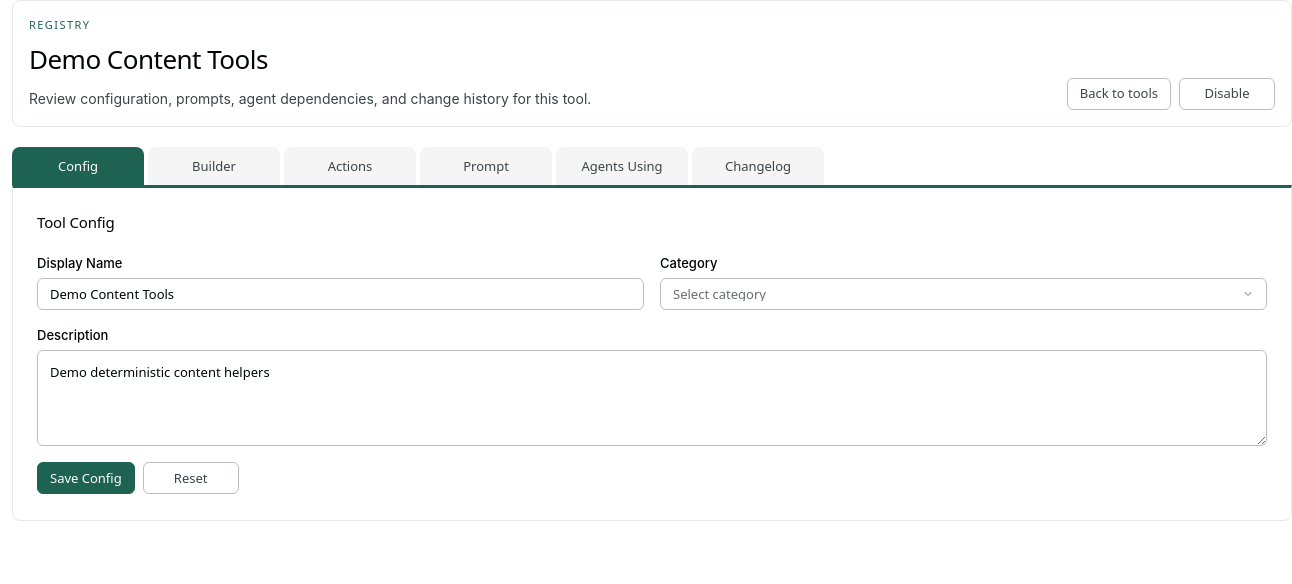
Test: RegistryToolsDetailPage › renders action contracts from tool interface functions
The image size is (1292, 584).
Check: the heading "Demo Content Tools" is shown, box [29,41,268,77]
Click the tab "Actions" at (350, 166), box [284,147,416,185]
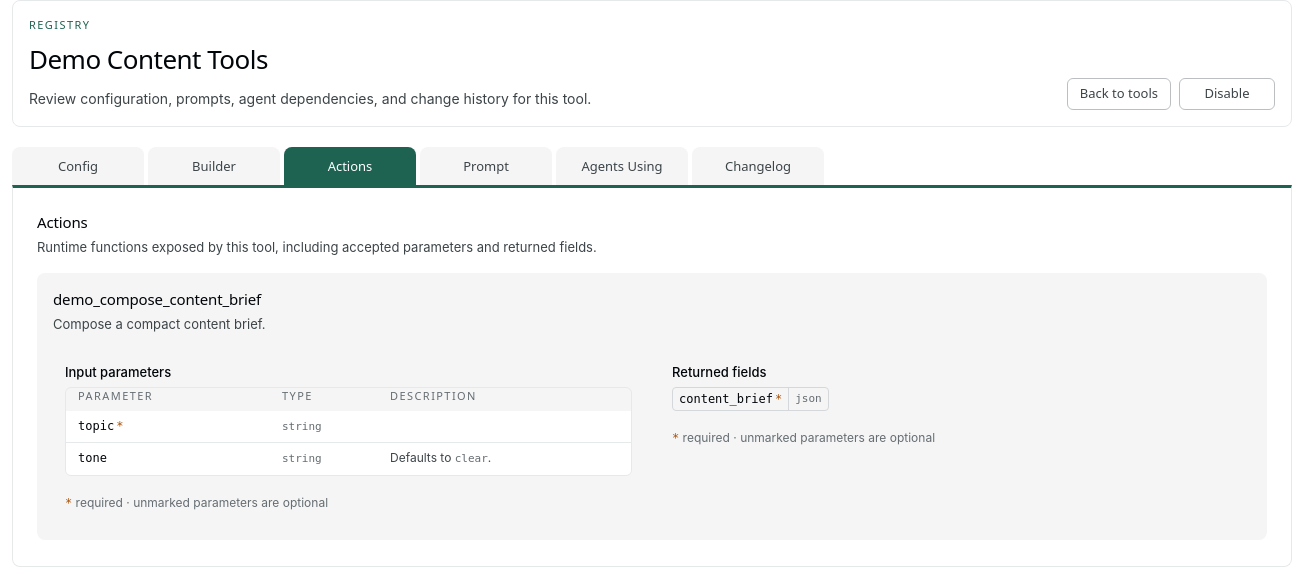
Check: the heading "demo_compose_content_brief" is shown, box [53,290,266,310]
Check: the text "Compose a compact content brief." is shown, box [53,316,266,335]
Check: the text "topic" is shown, box [78,419,114,433]
